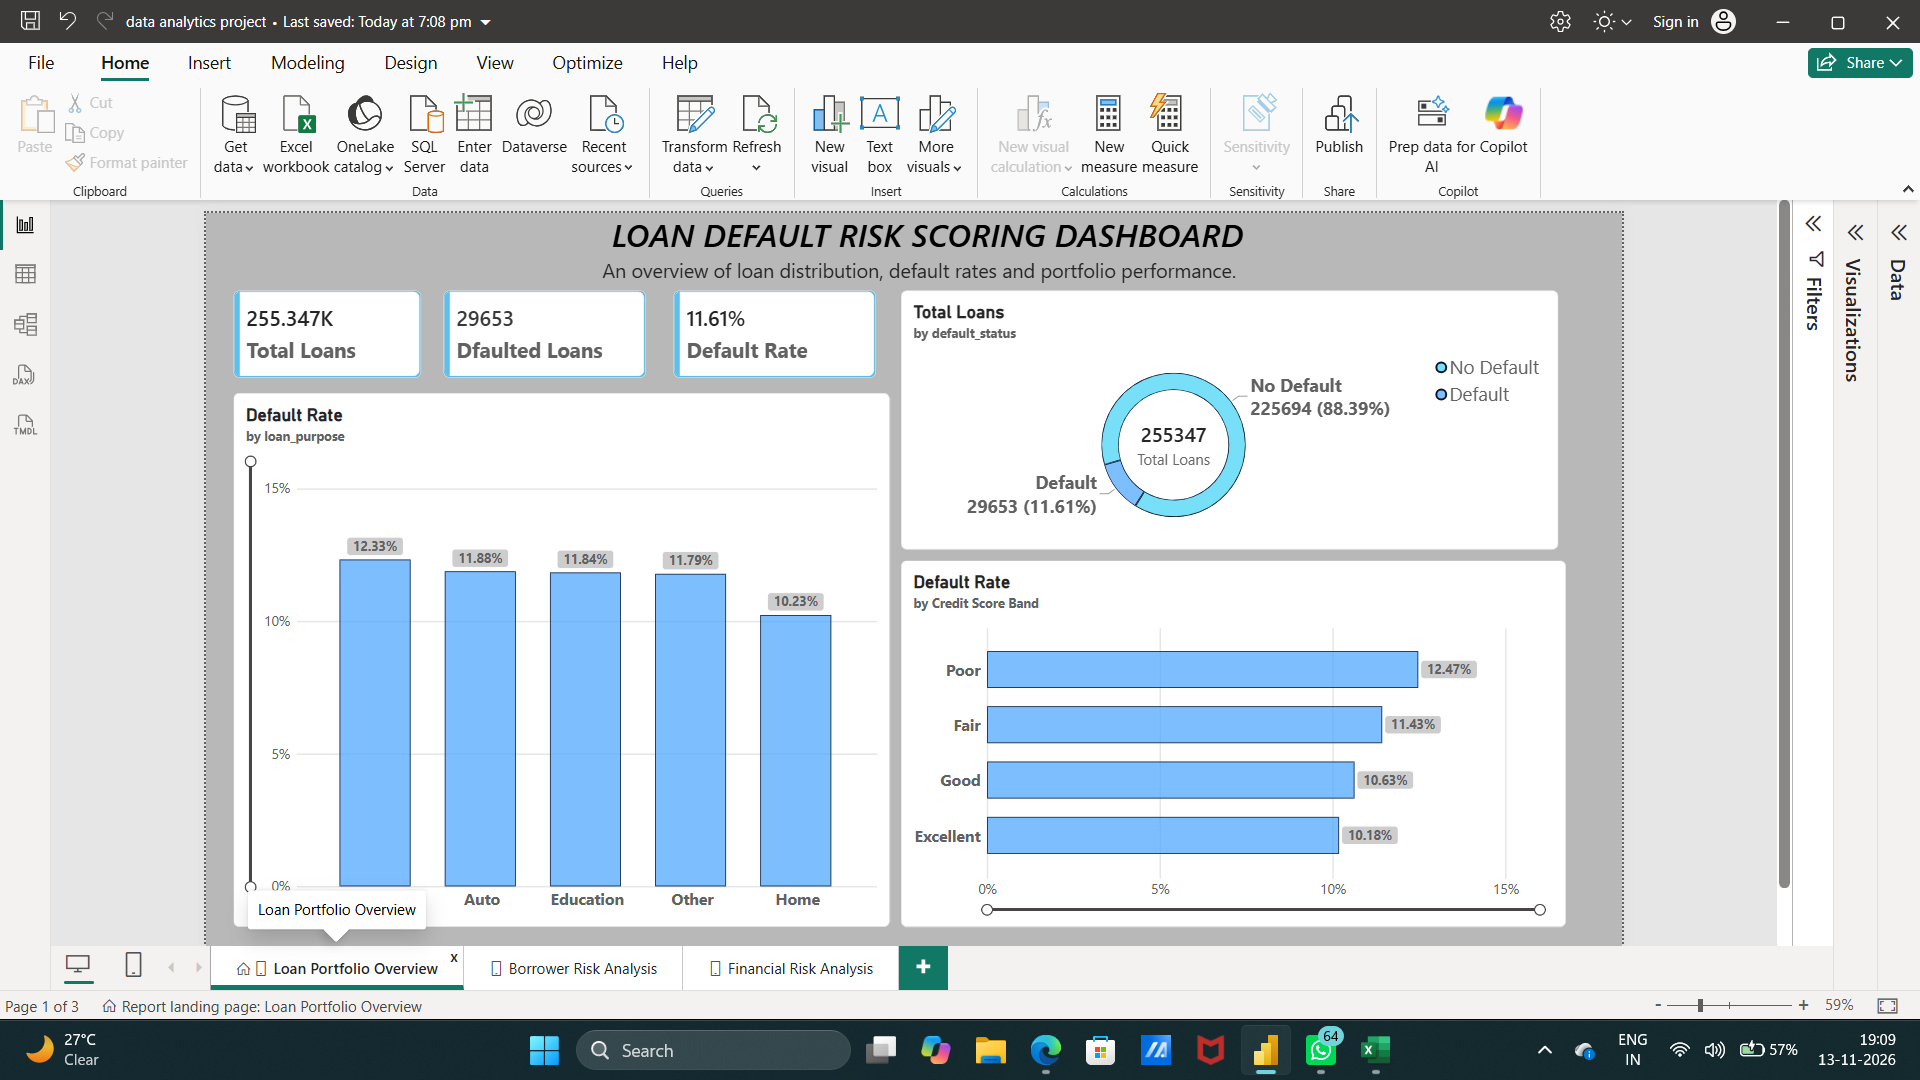

The page's visual inventory and layout, read from the dashboard file:
{"tool":"powerbi","page":{"name":"Loan Portfolio Overview","canvas":[1920,1080],"ordinal":0},"visuals":[{"type":"textbox","box":[37.3,0,1883.1,59.3],"z":0},{"type":"textbox","box":[67.9,343,1852.6,542.9],"z":1000},{"type":"cardVisual","fields":{"Data":["Loan_Default_Analysis_Ready xlx.Dfaulted Loans"]},"box":[322,105.1,274.6,118.6],"z":3000},{"type":"cardVisual","fields":{"Data":["Loan_Default_Analysis_Ready xlx.Default Rate"]},"box":[633.9,105.1,274.6,118.6],"z":4000},{"type":"donutChart","fields":{"Category":["Loan_Default_Analysis_Ready xlx.default_status"],"Y":["Loan_Default_Analysis_Ready xlx.Total Loans"]},"box":[942.4,105.1,891.5,350.8],"z":4001},{"type":"cardVisual","fields":{"Data":["Loan_Default_Analysis_Ready xlx.Total Loans"]},"box":[37.3,105.1,254.2,118.6],"z":4002},{"type":"clusteredColumnChart","fields":{"Category":["Loan_Default_Analysis_Ready xlx.loan_purpose"],"Y":["Loan_Default_Analysis_Ready xlx.Default Rate"]},"box":[37.3,244.1,889.8,723.7],"z":4003},{"type":"clusteredBarChart","fields":{"Category":["Loan_Default_Analysis_Ready xlx.Credit Score Band"],"Y":["Loan_Default_Analysis_Ready xlx.Default Rate"]},"box":[942.4,471.2,901.7,496.6],"z":4004},{"type":"textbox","box":[100,59.3,1733.9,45.8],"z":4005}]}

Visuals, with their boxes on the page's 1920x1080 design canvas (x1, y1, x2, y2). These are canvas units, not pixel positions in the 1920x1080 screenshot, which may show the page scaled, cropped or inside an application window:
textbox: bbox=(37, 0, 1920, 59)
textbox: bbox=(68, 343, 1920, 886)
cardVisual - Loan_Default_Analysis_Ready xlx.Dfaulted Loans: bbox=(322, 105, 597, 224)
cardVisual - Loan_Default_Analysis_Ready xlx.Default Rate: bbox=(634, 105, 908, 224)
donutChart - Loan_Default_Analysis_Ready xlx.default_status x Loan_Default_Analysis_Ready xlx.Total Loans: bbox=(942, 105, 1834, 456)
cardVisual - Loan_Default_Analysis_Ready xlx.Total Loans: bbox=(37, 105, 292, 224)
clusteredColumnChart - Loan_Default_Analysis_Ready xlx.loan_purpose x Loan_Default_Analysis_Ready xlx.Default Rate: bbox=(37, 244, 927, 968)
clusteredBarChart - Loan_Default_Analysis_Ready xlx.Credit Score Band x Loan_Default_Analysis_Ready xlx.Default Rate: bbox=(942, 471, 1844, 968)
textbox: bbox=(100, 59, 1834, 105)
